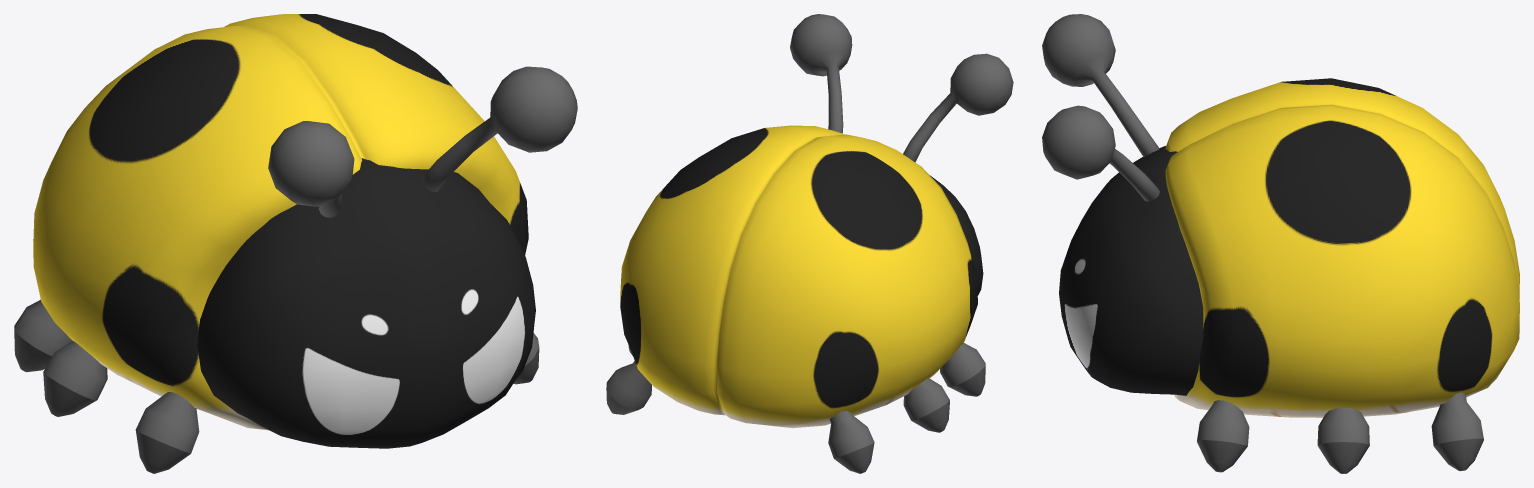
Rendered from ladybug_yellow.fbx.
3 views of the same model, side by side, from view 1: azimuth 30°, elevation 25°; view 2: azimuth 150°, elevation 25°; view 3: azimuth 270°, elevation 25° (orthographic). The views are drawn at different scales.
Parts seen in each view (by area): view 1: bd, hd, ant, lg; view 2: bd, ant, lg, hd; view 3: bd, hd, ant, lg.
Part boxes in pixels (<box>): bd: <box>33,14,528,430</box>; hd: <box>197,158,535,448</box>; ant: <box>268,66,577,217</box>; lg: <box>14,299,539,473</box>; bd: <box>620,125,977,428</box>; ant: <box>790,14,1013,162</box>; lg: <box>606,342,985,473</box>; hd: <box>930,175,983,295</box>; bd: <box>1165,78,1519,417</box>; hd: <box>1059,146,1203,395</box>; ant: <box>1042,14,1159,201</box>; lg: <box>1197,392,1483,473</box>.
Bounding box in the file's own units: 115 × 100 × 129.
Materials: 3 (2 with a texture image).
